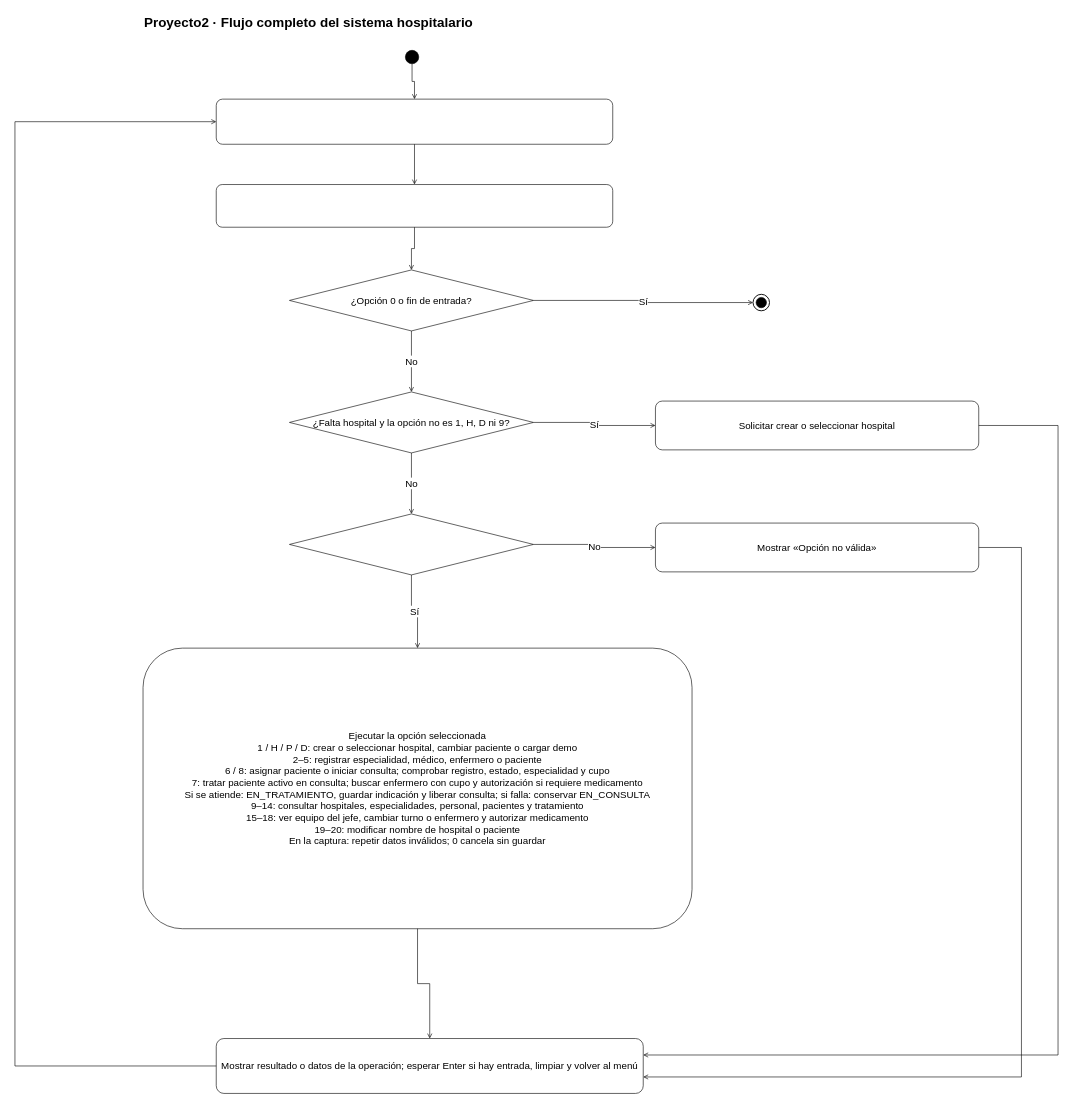
This 1074x1104 diagram has some shape labels left out. Each missing label, with the box of its shape:
Leer opción: (216, 184, 613, 227)
Mostrar hospital y paciente activos y el menú completo: (216, 99, 613, 144)
¿La opción pertenece al menú?: (289, 513, 533, 575)
